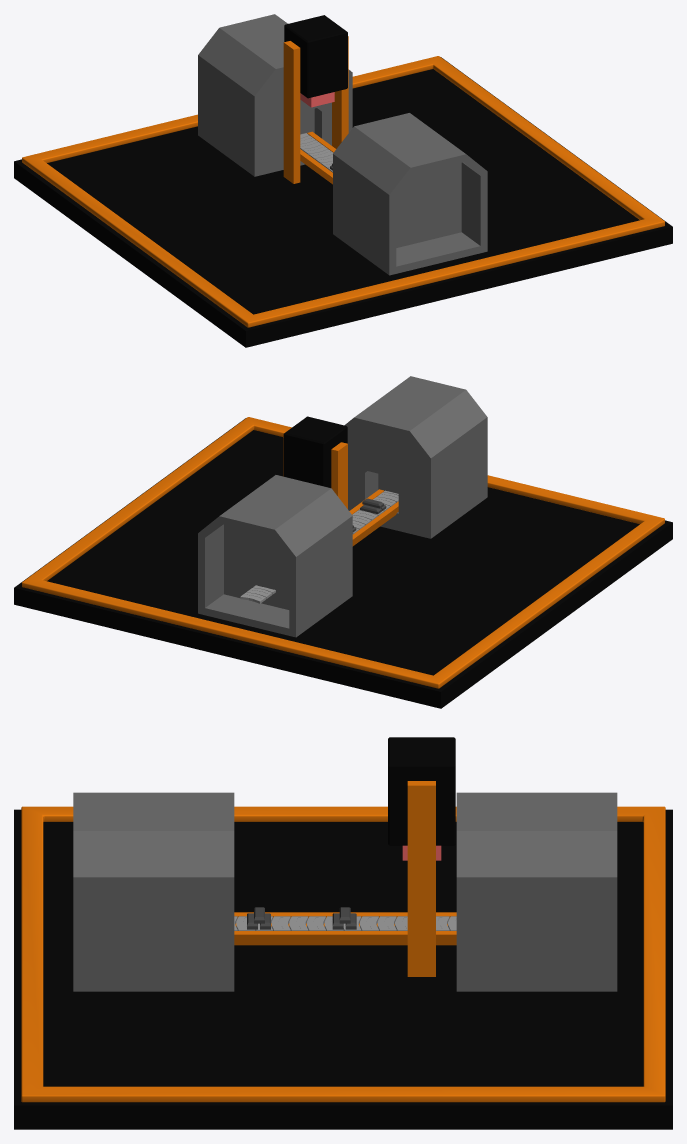
The model's file is Smelter.glb.
3 views of the same model, one above another, from view 1: azimuth 30°, elevation 25°; view 2: azimuth 150°, elevation 25°; view 3: azimuth 270°, elevation 25° (orthographic). The views are drawn at different scales.
Visible parts, largest first — view 1: Cube.002, Cube.006, Cube.005, Cube, Stamp, Cube.003, Cube.007, Cube.001; view 2: Cube.002, Cube, Cube.006, Cube.005, Stamp, Cube.007, Cube.003, Cube.001; view 3: Cube.002, Cube.006, Cube, Cube.005, Cube.003, Stamp, Cube.001, Cube.007.
Boxes of the visible parts, x1,y1,x2,y2 form: Cube.002: (14, 57, 672, 347); Cube.006: (333, 113, 487, 275); Cube.005: (22, 56, 664, 327); Cube: (198, 14, 352, 176); Stamp: (284, 15, 347, 98); Cube.003: (283, 36, 348, 183); Cube.007: (300, 133, 333, 172); Cube.001: (300, 131, 335, 184); Cube.002: (14, 418, 672, 708); Cube: (198, 475, 352, 637); Cube.006: (344, 376, 487, 538); Cube.005: (22, 417, 664, 688); Stamp: (283, 416, 347, 487); Cube.007: (240, 490, 398, 603); Cube.003: (283, 437, 347, 508); Cube.001: (349, 489, 398, 546); Cube.002: (14, 809, 672, 1129); Cube.006: (73, 792, 234, 991); Cube: (456, 792, 617, 991); Cube.005: (21, 806, 665, 1102); Cube.003: (407, 781, 435, 976); Stamp: (388, 737, 455, 845); Cube.001: (234, 912, 456, 945); Cube.007: (234, 916, 456, 930).
Size of the model in its own units: 0.8185 by 0.2976 by 0.7696.
